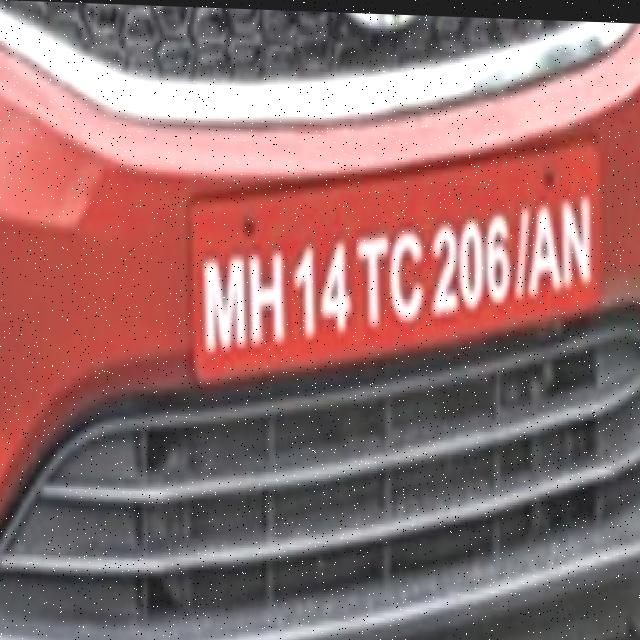plate: (185, 119, 628, 400)
